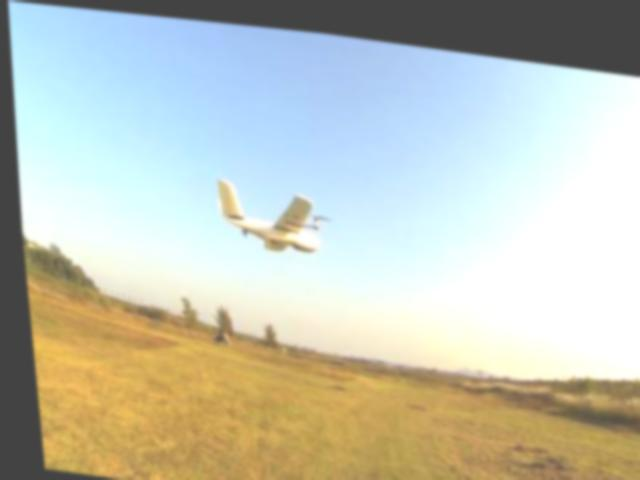uav: (200, 159, 332, 264)
